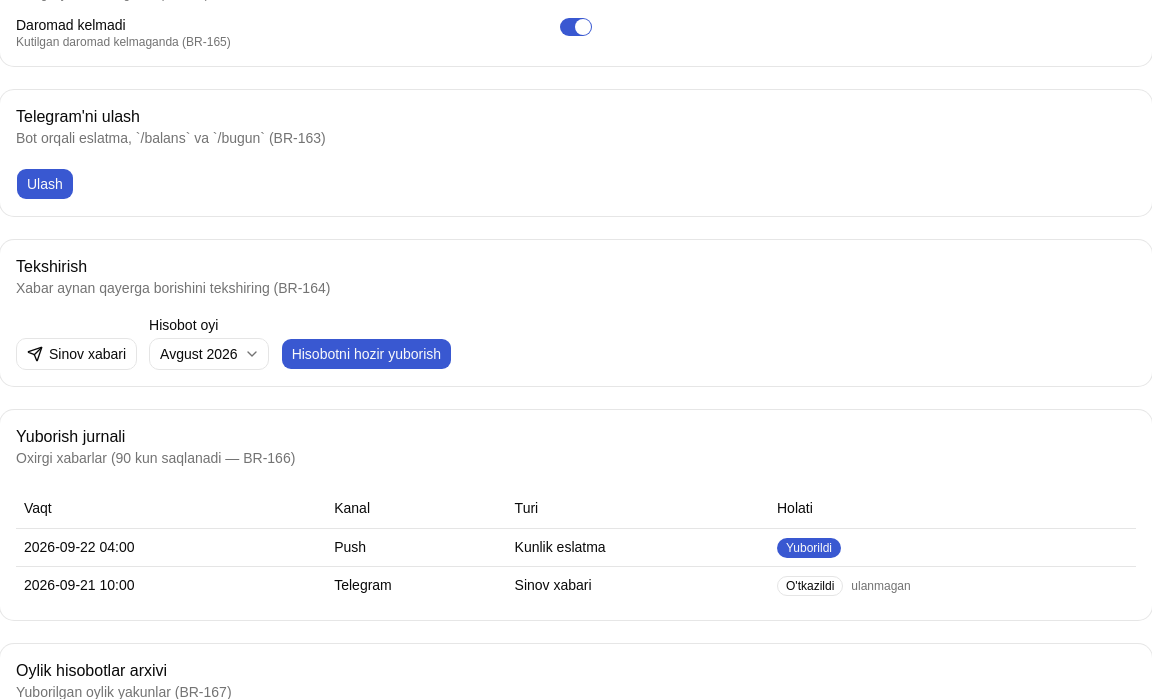
Test: NotificationsPage (E25-T06) › sinov xabari: har kanal uchun natija yoki sabab
The image size is (1152, 699).
(page scrolled)
Click the button "Sinov xabari" at coordinates (76, 354), box top-left (16, 338), bottom-right (137, 370)
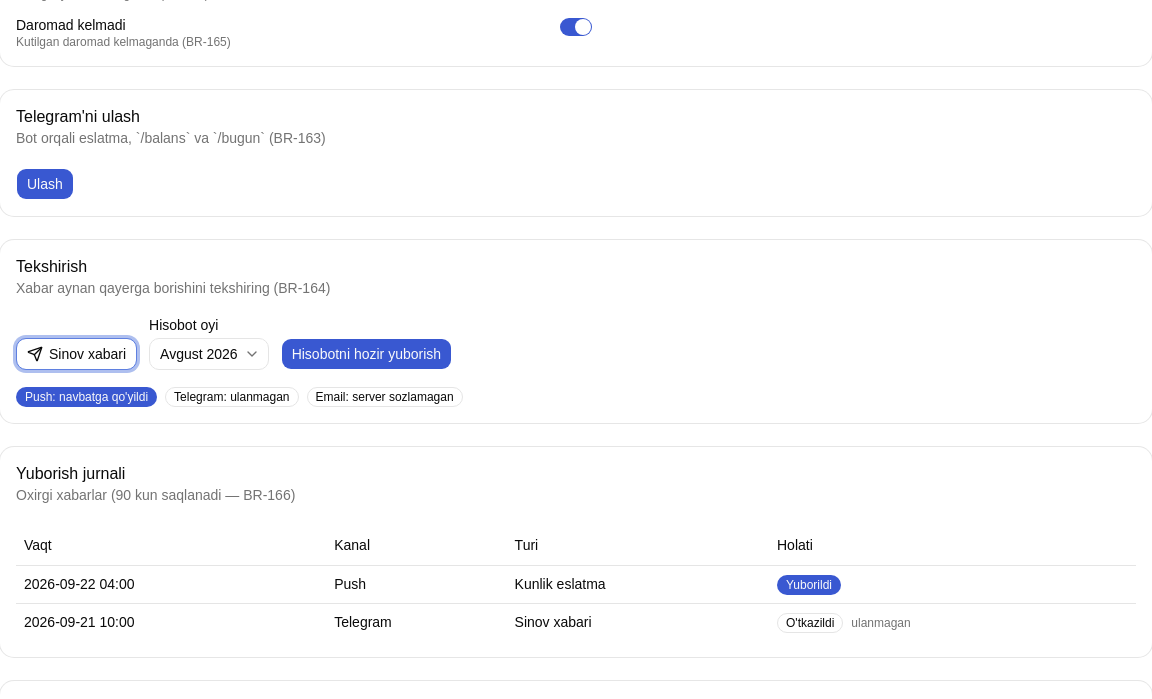
Result: the text "Push: navbatga qo'yildi" is shown at top-left (16, 387), bottom-right (157, 407)
Result: the text "Telegram: ulanmagan" is shown at top-left (165, 387), bottom-right (298, 407)
Result: the text "Email: server sozlamagan" is shown at top-left (306, 387), bottom-right (463, 407)
